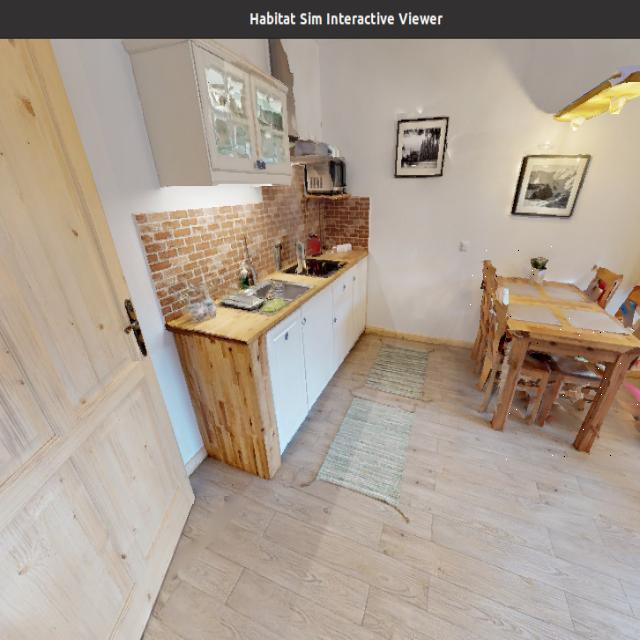table: (465, 245, 640, 466)
